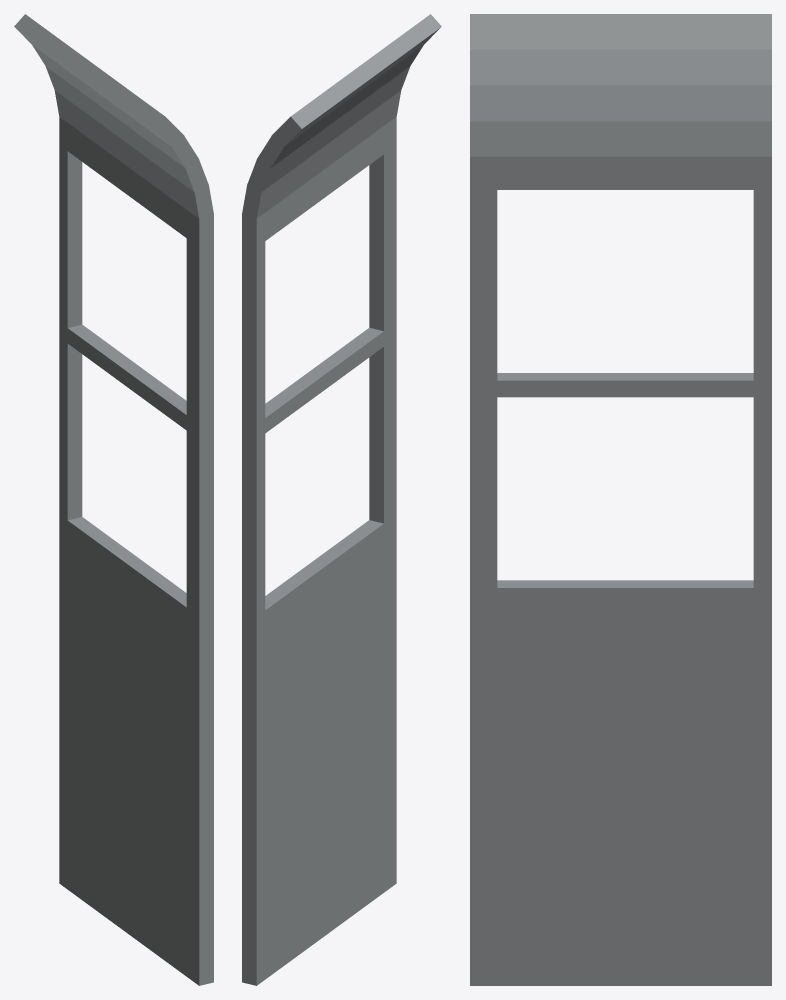
Rendered from rails.obj.
The picture shows the model from 3 angles, left to right: view 1: azimuth 30°, elevation 25°; view 2: azimuth 150°, elevation 25°; view 3: azimuth 270°, elevation 25°; orthographic projection. The views are drawn at different scales.
Parts seen in each view (by area): view 1: cuboid; view 2: cuboid; view 3: cuboid.
Boxes of the visible parts, box(x1,y1,x2,y2) form: cuboid: box(14, 14, 213, 985); cuboid: box(242, 14, 441, 985); cuboid: box(470, 14, 771, 985).
Bounding box in the file's own units: 0.2549 × 3.57 × 1.03.
1 material, 1 textured.
